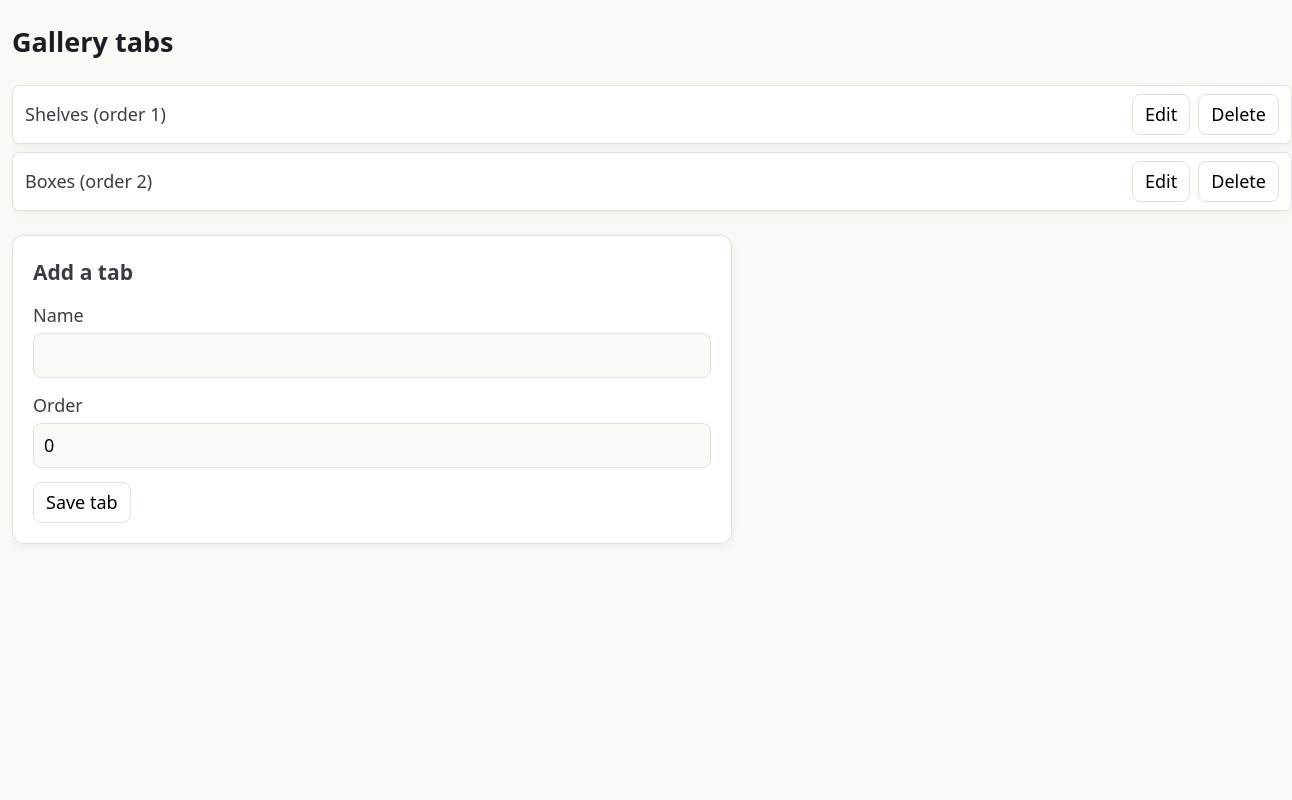
Test case: TabsPanel › shows a save failure message
This screenshot has width=1292, height=800.
Type "Oops" into the field labelled "Name" at coordinates (372, 355), box [33, 333, 711, 378]
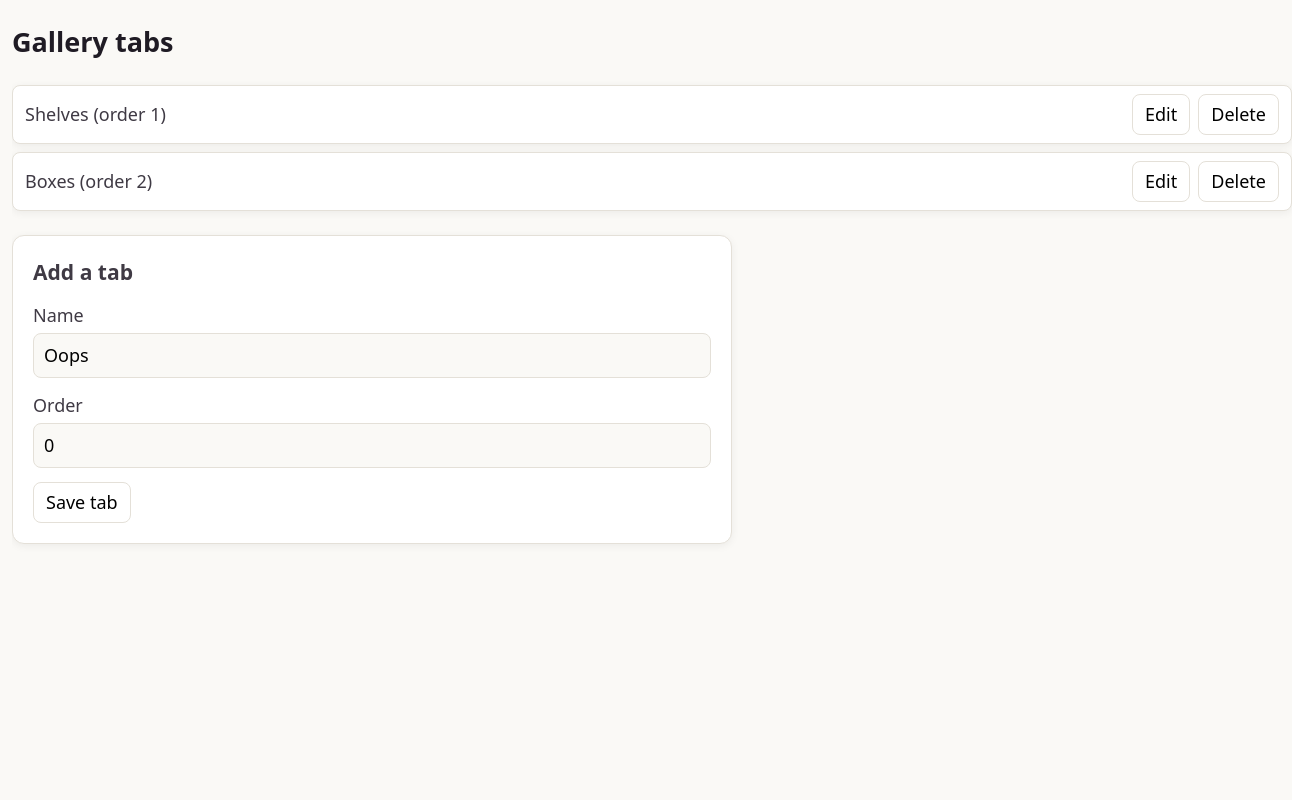
Click the button "Save tab" at coordinates (82, 502), box [33, 482, 131, 523]
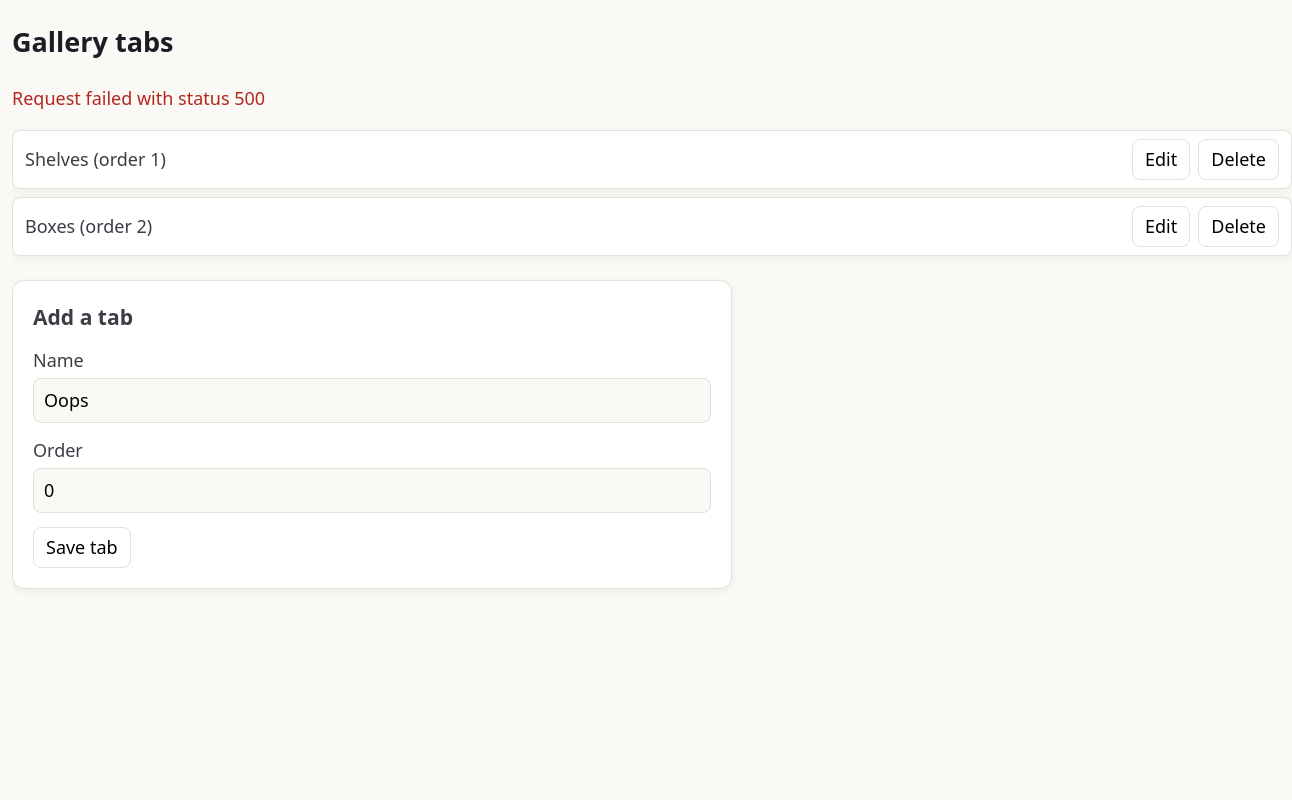
Check: the text "Request failed with status 500" is shown, box [12, 86, 265, 110]
